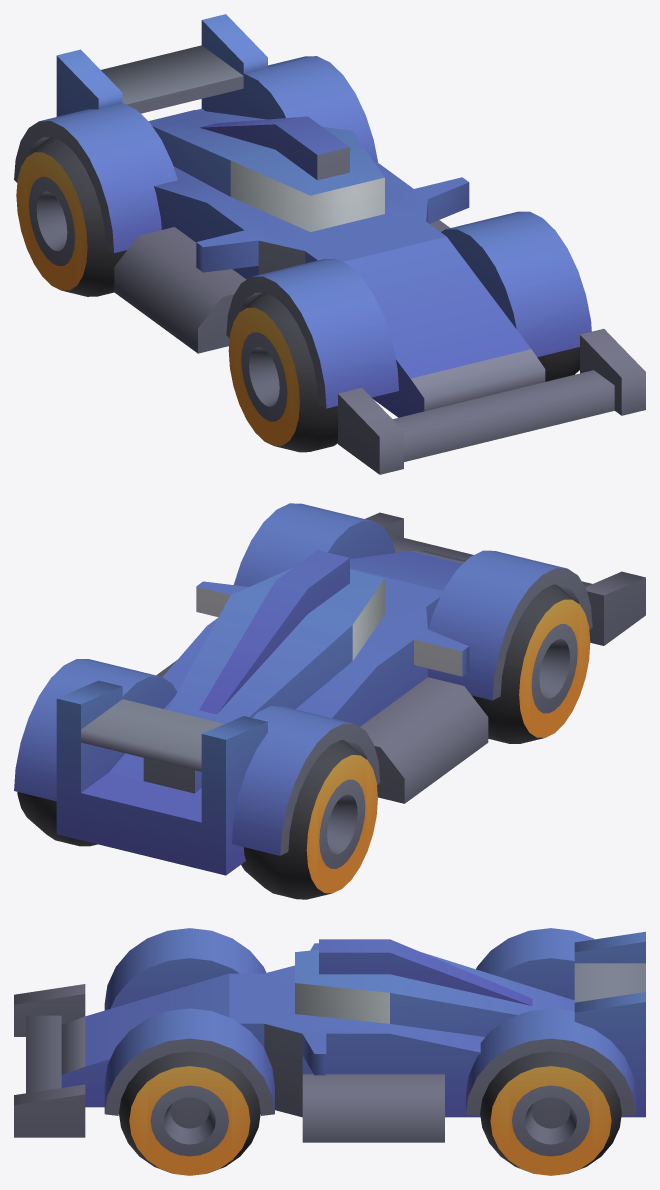
File: framtidsbil.glb
3 views of the same model, one above another, from view 1: azimuth 30°, elevation 25°; view 2: azimuth 150°, elevation 25°; view 3: azimuth 270°, elevation 25° (orthographic). The views are drawn at different scales.
Parts seen in each view (by area): view 1: body, wheel-front-right, wheel-back-right, wheel-front-left; view 2: body, wheel-back-right, wheel-front-right, wheel-back-left; view 3: body, wheel-front-left, wheel-back-left.
Boxes of the visible parts, x1,y1,x2,y2 form: body: (14,14,645,474); wheel-front-right: (228,292,337,452); wheel-back-right: (16,137,126,296); wheel-front-left: (537,347,579,381); body: (14,503,645,875); wheel-back-right: (241,740,377,899); wheel-front-right: (471,584,590,743); wheel-back-left: (17,792,97,846); body: (14,928,645,1142); wheel-front-left: (119,1051,260,1175); wheel-back-left: (480,1051,621,1175).
Bounding box in the file's own units: 1.2 × 0.8325 × 2.66.
Materials: 1 (1 with a texture image).
